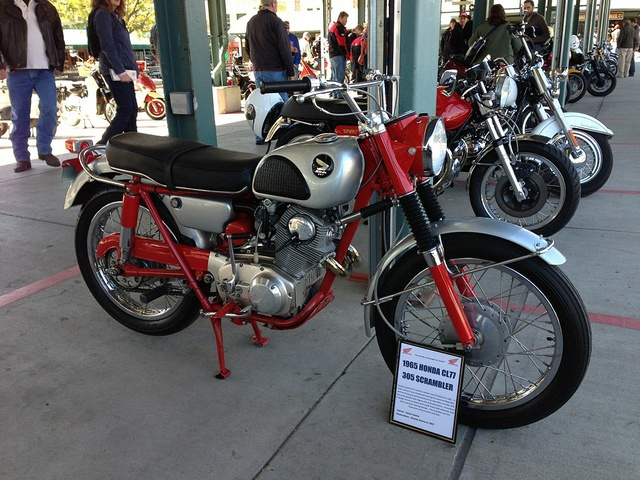non-vehicle: (60, 67, 600, 427), (440, 40, 574, 236), (511, 21, 616, 201), (91, 60, 165, 124), (567, 49, 619, 97), (226, 55, 256, 100), (564, 68, 587, 103), (592, 44, 617, 73), (297, 52, 317, 79), (603, 39, 618, 64)
